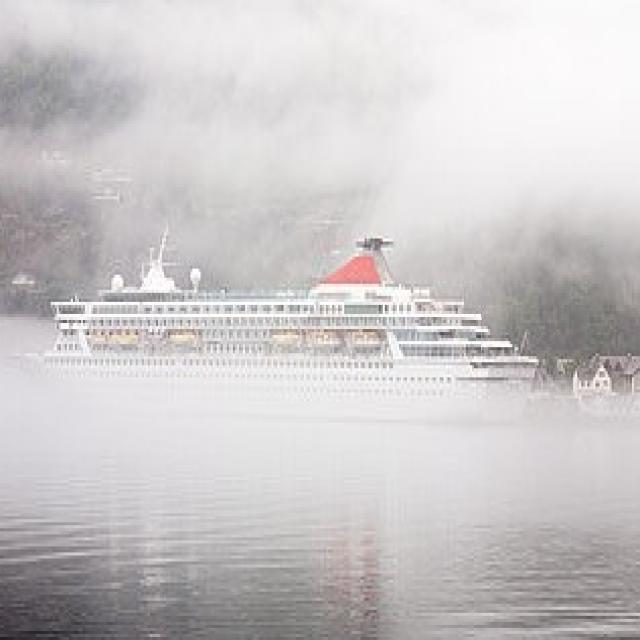passenger ship: (17, 229, 542, 426)
